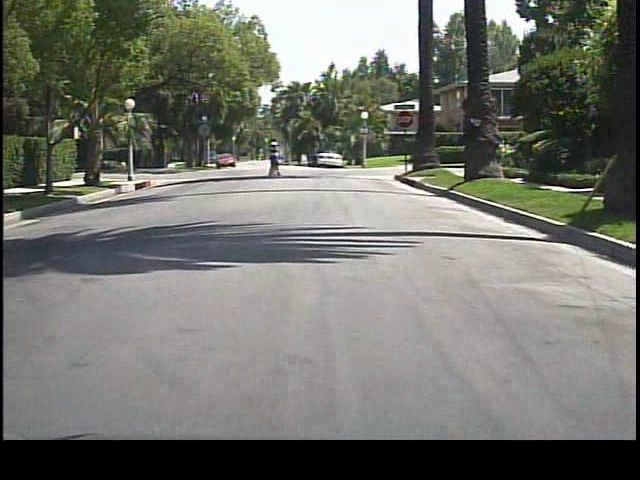person: (266, 136, 284, 176)
